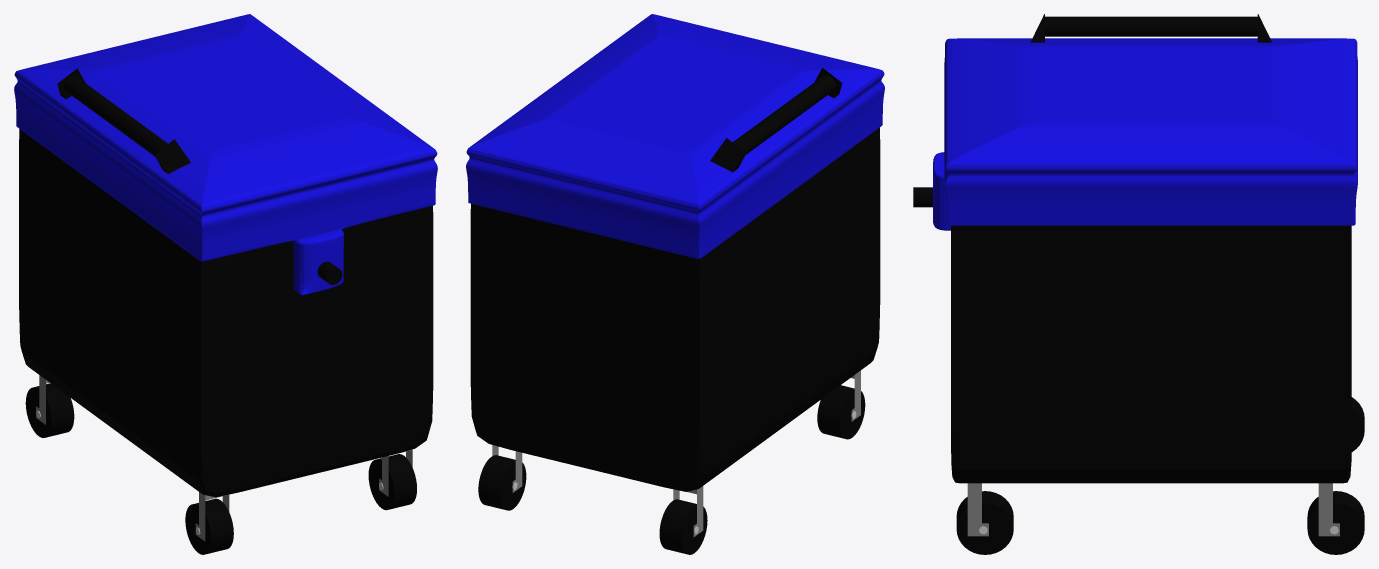
Rendered from Mülltonne.fbx.
3 views of the same model, side by side, from view 1: azimuth 30°, elevation 25°; view 2: azimuth 150°, elevation 25°; view 3: azimuth 270°, elevation 25° (orthographic). The views are drawn at different scales.
Visible parts, largest first — view 1: Cube, Cube.005, Cylinder.009, Cylinder, Cylinder.005, Cylinder.007, Cube.007; view 2: Cube, Cube.005, Cylinder.009, Cylinder.007, Cylinder.003, Cylinder.005, Cube.006; view 3: Cube, Cube.005, Cylinder.009, Cylinder, Cylinder.003, Cube.001, Cube.002, Cylinder.007.
Boxes of the visible parts, <box> form: Cube: <box>19,129,433,497</box>; Cube.005: <box>14,14,437,295</box>; Cylinder.009: <box>64,76,167,156</box>; Cylinder: <box>368,454,416,510</box>; Cylinder.005: <box>185,498,233,554</box>; Cylinder.007: <box>25,383,74,437</box>; Cube.007: <box>154,139,190,174</box>; Cube: <box>470,127,880,491</box>; Cube.005: <box>466,14,884,259</box>; Cylinder.009: <box>733,75,835,154</box>; Cylinder.007: <box>659,499,707,554</box>; Cylinder.003: <box>478,455,526,510</box>; Cylinder.005: <box>817,385,865,439</box>; Cube.006: <box>710,138,746,172</box>; Cube: <box>951,225,1351,483</box>; Cube.005: <box>933,38,1357,230</box>; Cylinder.009: <box>1045,16,1257,36</box>; Cylinder: <box>956,491,1013,554</box>; Cylinder.003: <box>1307,491,1364,554</box>; Cube.001: <box>967,483,988,536</box>; Cube.002: <box>1318,483,1339,536</box>; Cylinder.007: <box>1351,397,1364,451</box>.
Bounding box in the file's own units: 1.06 × 1.67 × 1.58.
